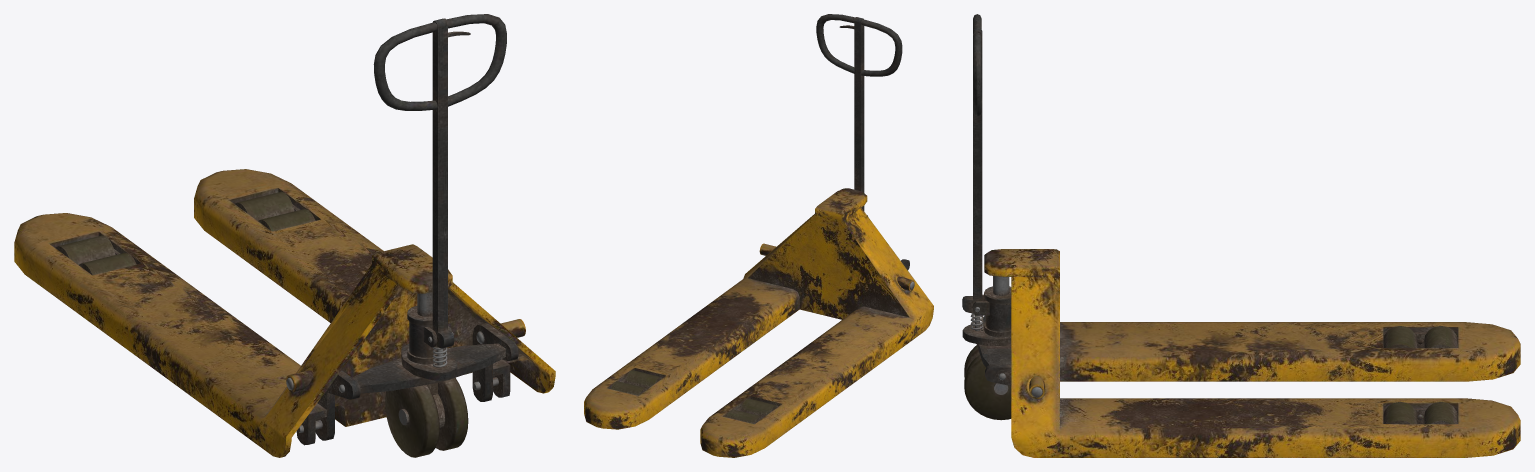
File: pallet_jack.glb
3 views of the same model, side by side, from view 1: azimuth 30°, elevation 25°; view 2: azimuth 150°, elevation 25°; view 3: azimuth 270°, elevation 25° (orthographic). The views are drawn at different scales.
Visible parts, largest first — view 1: Chassis, Tiller, Steering, SteerWheels, RollerL1, RollerR1, RollerL2, RollerR2; view 2: Chassis, Tiller, Steering, RollerL2, RollerR2; view 3: Chassis, Steering, Tiller, SteerWheels, RollerL1, RollerR1, RollerR2, RollerL2.
Part boxes in pixels (x1,y1,x2,y2): Chassis: (14, 169, 555, 457); Tiller: (373, 14, 506, 348); Steering: (372, 244, 457, 395); SteerWheels: (385, 377, 468, 457); RollerL1: (55, 235, 115, 264); RollerR1: (235, 191, 294, 220); RollerL2: (79, 252, 136, 275); RollerR2: (258, 209, 315, 231); Chassis: (584, 208, 933, 457); Tiller: (816, 14, 902, 215); Steering: (815, 188, 867, 220); RollerL2: (740, 398, 778, 417); RollerR2: (624, 370, 662, 388); Chassis: (976, 276, 1520, 457); Steering: (962, 249, 1059, 345); Tiller: (962, 14, 982, 312); SteerWheels: (964, 345, 1011, 420); RollerL1: (1423, 326, 1458, 347); RollerR1: (1423, 402, 1458, 423); RollerR2: (1383, 401, 1417, 423); RollerL2: (1383, 326, 1417, 347).
Size of the model in its own units: 0.7751 by 1.21 by 1.6.
1 material, 1 textured.
